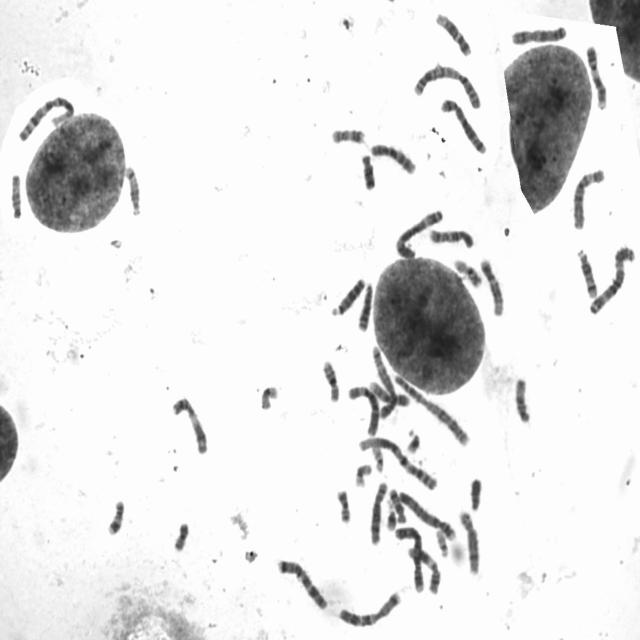A1: (356, 431, 442, 492), (16, 91, 77, 143)
A2: (390, 367, 472, 448), (411, 58, 485, 110)
A3: (586, 240, 638, 316), (392, 203, 446, 261)
B4: (391, 484, 459, 542), (393, 521, 427, 594)
B5: (438, 92, 489, 156), (368, 341, 399, 421)
C10: (368, 138, 419, 176), (426, 223, 477, 249)
C11: (169, 391, 211, 456), (405, 542, 443, 596)
C12: (432, 7, 474, 57), (478, 253, 507, 317)
C6: (570, 162, 608, 231), (345, 379, 382, 437)
C7: (275, 554, 330, 612), (335, 585, 405, 629)
C8: (456, 505, 483, 576), (367, 476, 391, 547)
C9: (583, 39, 610, 111), (366, 375, 413, 408)
D13: (329, 272, 368, 317), (356, 277, 376, 332)
D14: (574, 243, 601, 299), (122, 160, 144, 217)
D15: (512, 372, 534, 426), (8, 169, 24, 221)
E16: (451, 253, 485, 289), (319, 355, 343, 403)
E17: (328, 122, 368, 146), (105, 494, 127, 537)
E18: (386, 484, 408, 524), (359, 149, 378, 192)
F19: (258, 379, 281, 412), (352, 458, 374, 488)
F20: (334, 484, 354, 525), (171, 516, 192, 553)
G21: (404, 424, 423, 456), (384, 503, 398, 532)
G22: (434, 525, 451, 558), (370, 440, 386, 473)
X: (509, 20, 569, 46)
Y: (468, 472, 484, 512)
